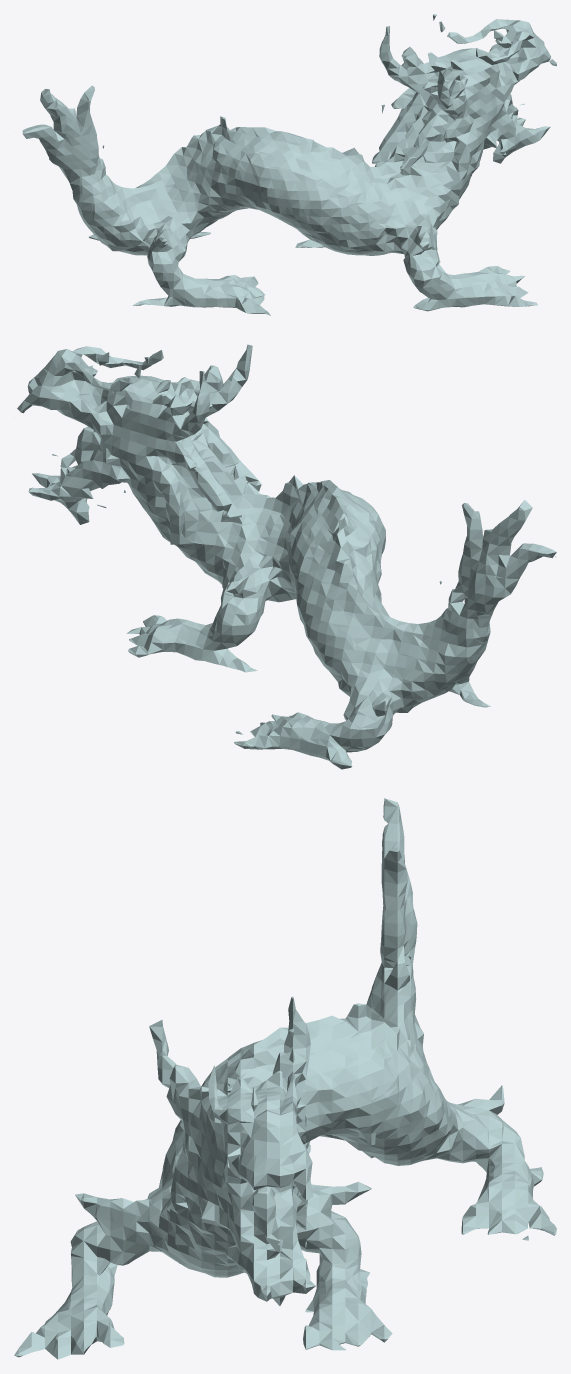
Rendered from ours_64.glb.
3 views of the same model, one above another, from view 1: azimuth 30°, elevation 25°; view 2: azimuth 150°, elevation 25°; view 3: azimuth 270°, elevation 25° (orthographic). The views are drawn at different scales.
Visible parts, largest first — view 1: ours_64.ply; view 2: ours_64.ply; view 3: ours_64.ply.
Part boxes in pixels (x1,y1,x2,y2): ours_64.ply: (14,14,556,315); ours_64.ply: (14,344,556,769); ours_64.ply: (14,798,556,1359).
Size of the model in its own units: 2 by 0.8866 by 1.32.
